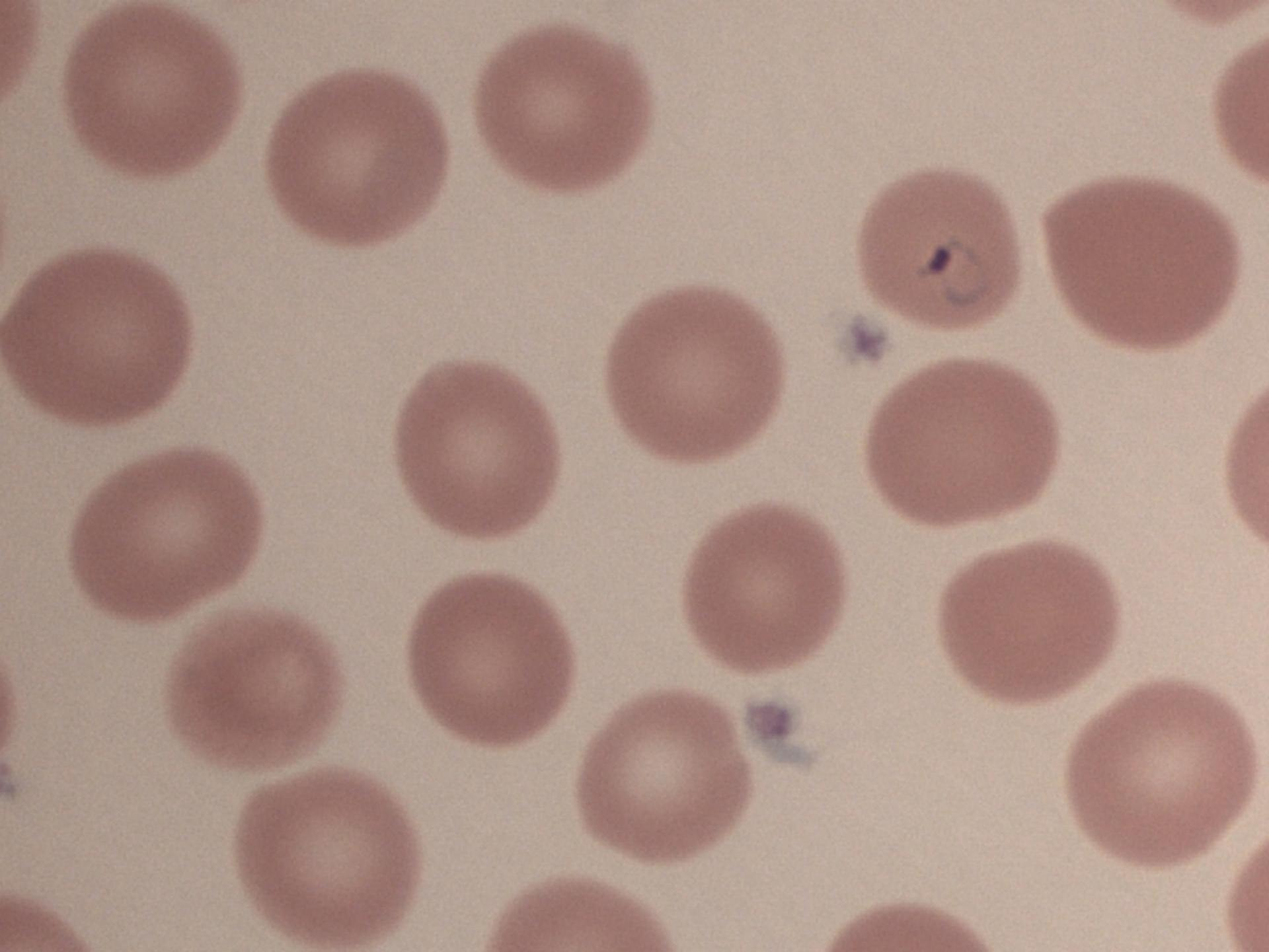Infected: (859, 175, 1015, 334)
Uninfected: (4, 245, 203, 426), (1040, 175, 1243, 351), (1066, 686, 1256, 874), (57, 448, 261, 623), (236, 769, 426, 952), (262, 71, 444, 251), (66, 3, 241, 176), (868, 364, 1059, 522), (154, 611, 339, 774), (579, 688, 751, 859), (478, 27, 652, 195), (608, 289, 781, 457), (933, 540, 1115, 699), (687, 503, 847, 677), (412, 573, 579, 739), (403, 364, 557, 529)
